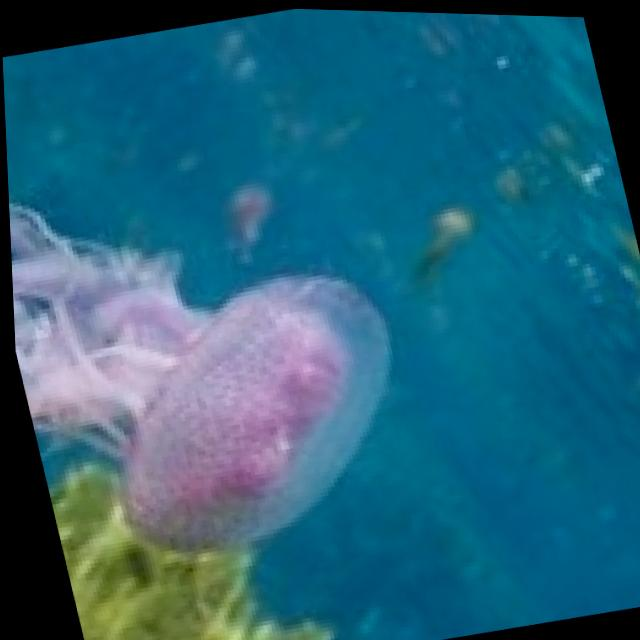Human: (4, 124, 438, 591)
